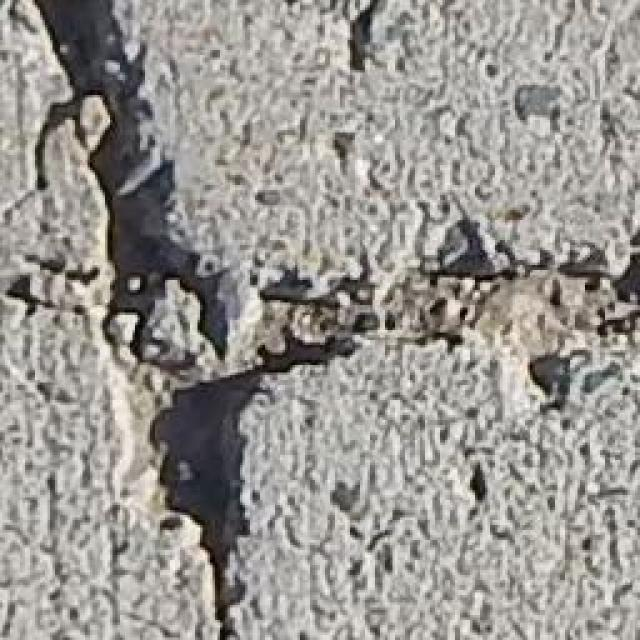concrete-crack: (0, 0, 640, 640)
